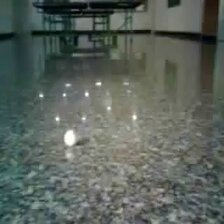w: (63, 128, 77, 146)
